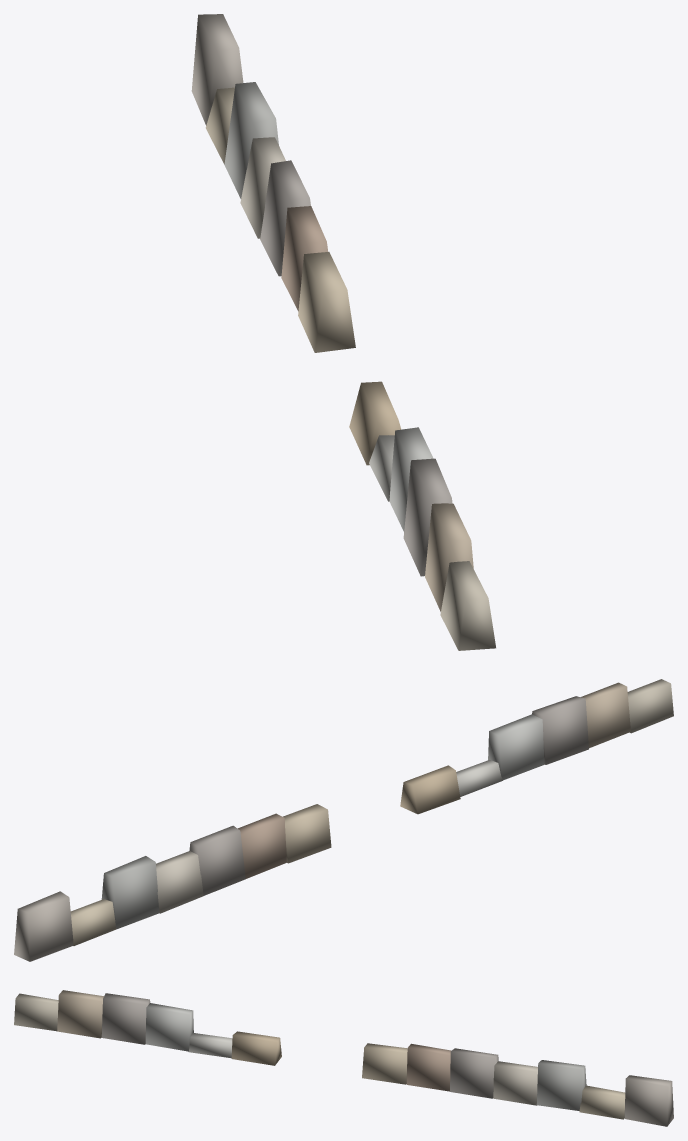
Rendered from farm_30_24_far.glb.
3 views of the same model, one above another, from view 1: azimuth 30°, elevation 25°; view 2: azimuth 150°, elevation 25°; view 3: azimuth 270°, elevation 25° (orthographic). The views are drawn at different scales.
Parts seen in each view (by area): view 1: geometry_0; view 2: geometry_0; view 3: geometry_0.
Part boxes in pixels (box(x1,y1,x2,y2)): geometry_0: box(191, 14, 495, 650); geometry_0: box(14, 679, 673, 961); geometry_0: box(14, 990, 673, 1126).
Size of the model in its own units: 7.86 by 1.63 by 21.42.
